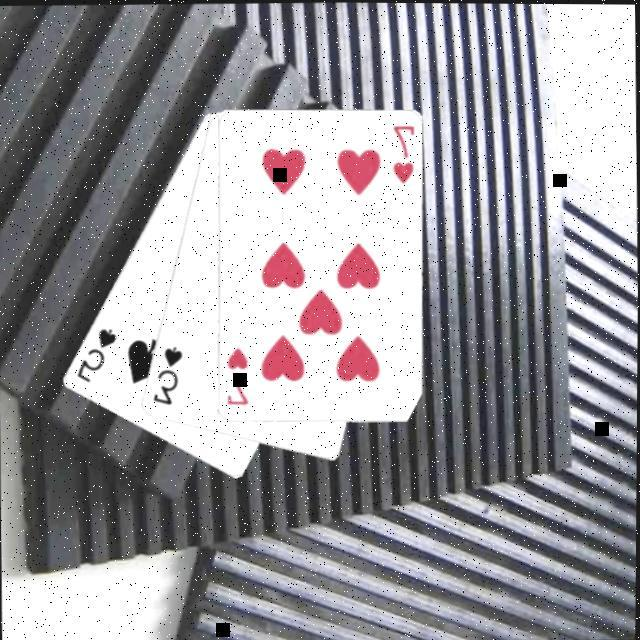3S: (150, 344, 188, 410)
5S: (73, 326, 120, 387)
7H: (224, 346, 252, 410), (389, 123, 417, 187)
